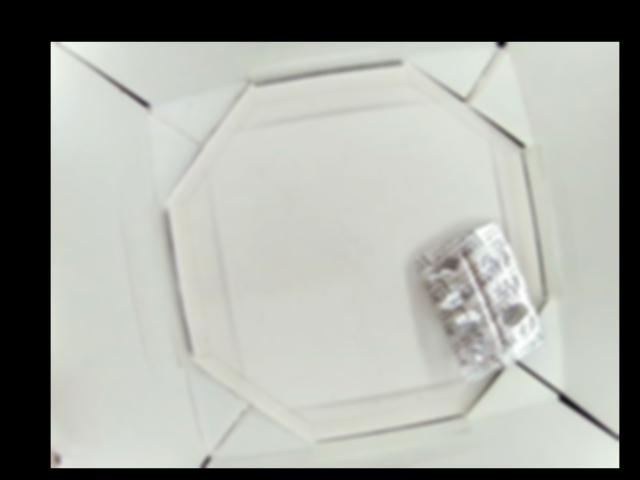Medicine: (414, 220, 545, 377)
